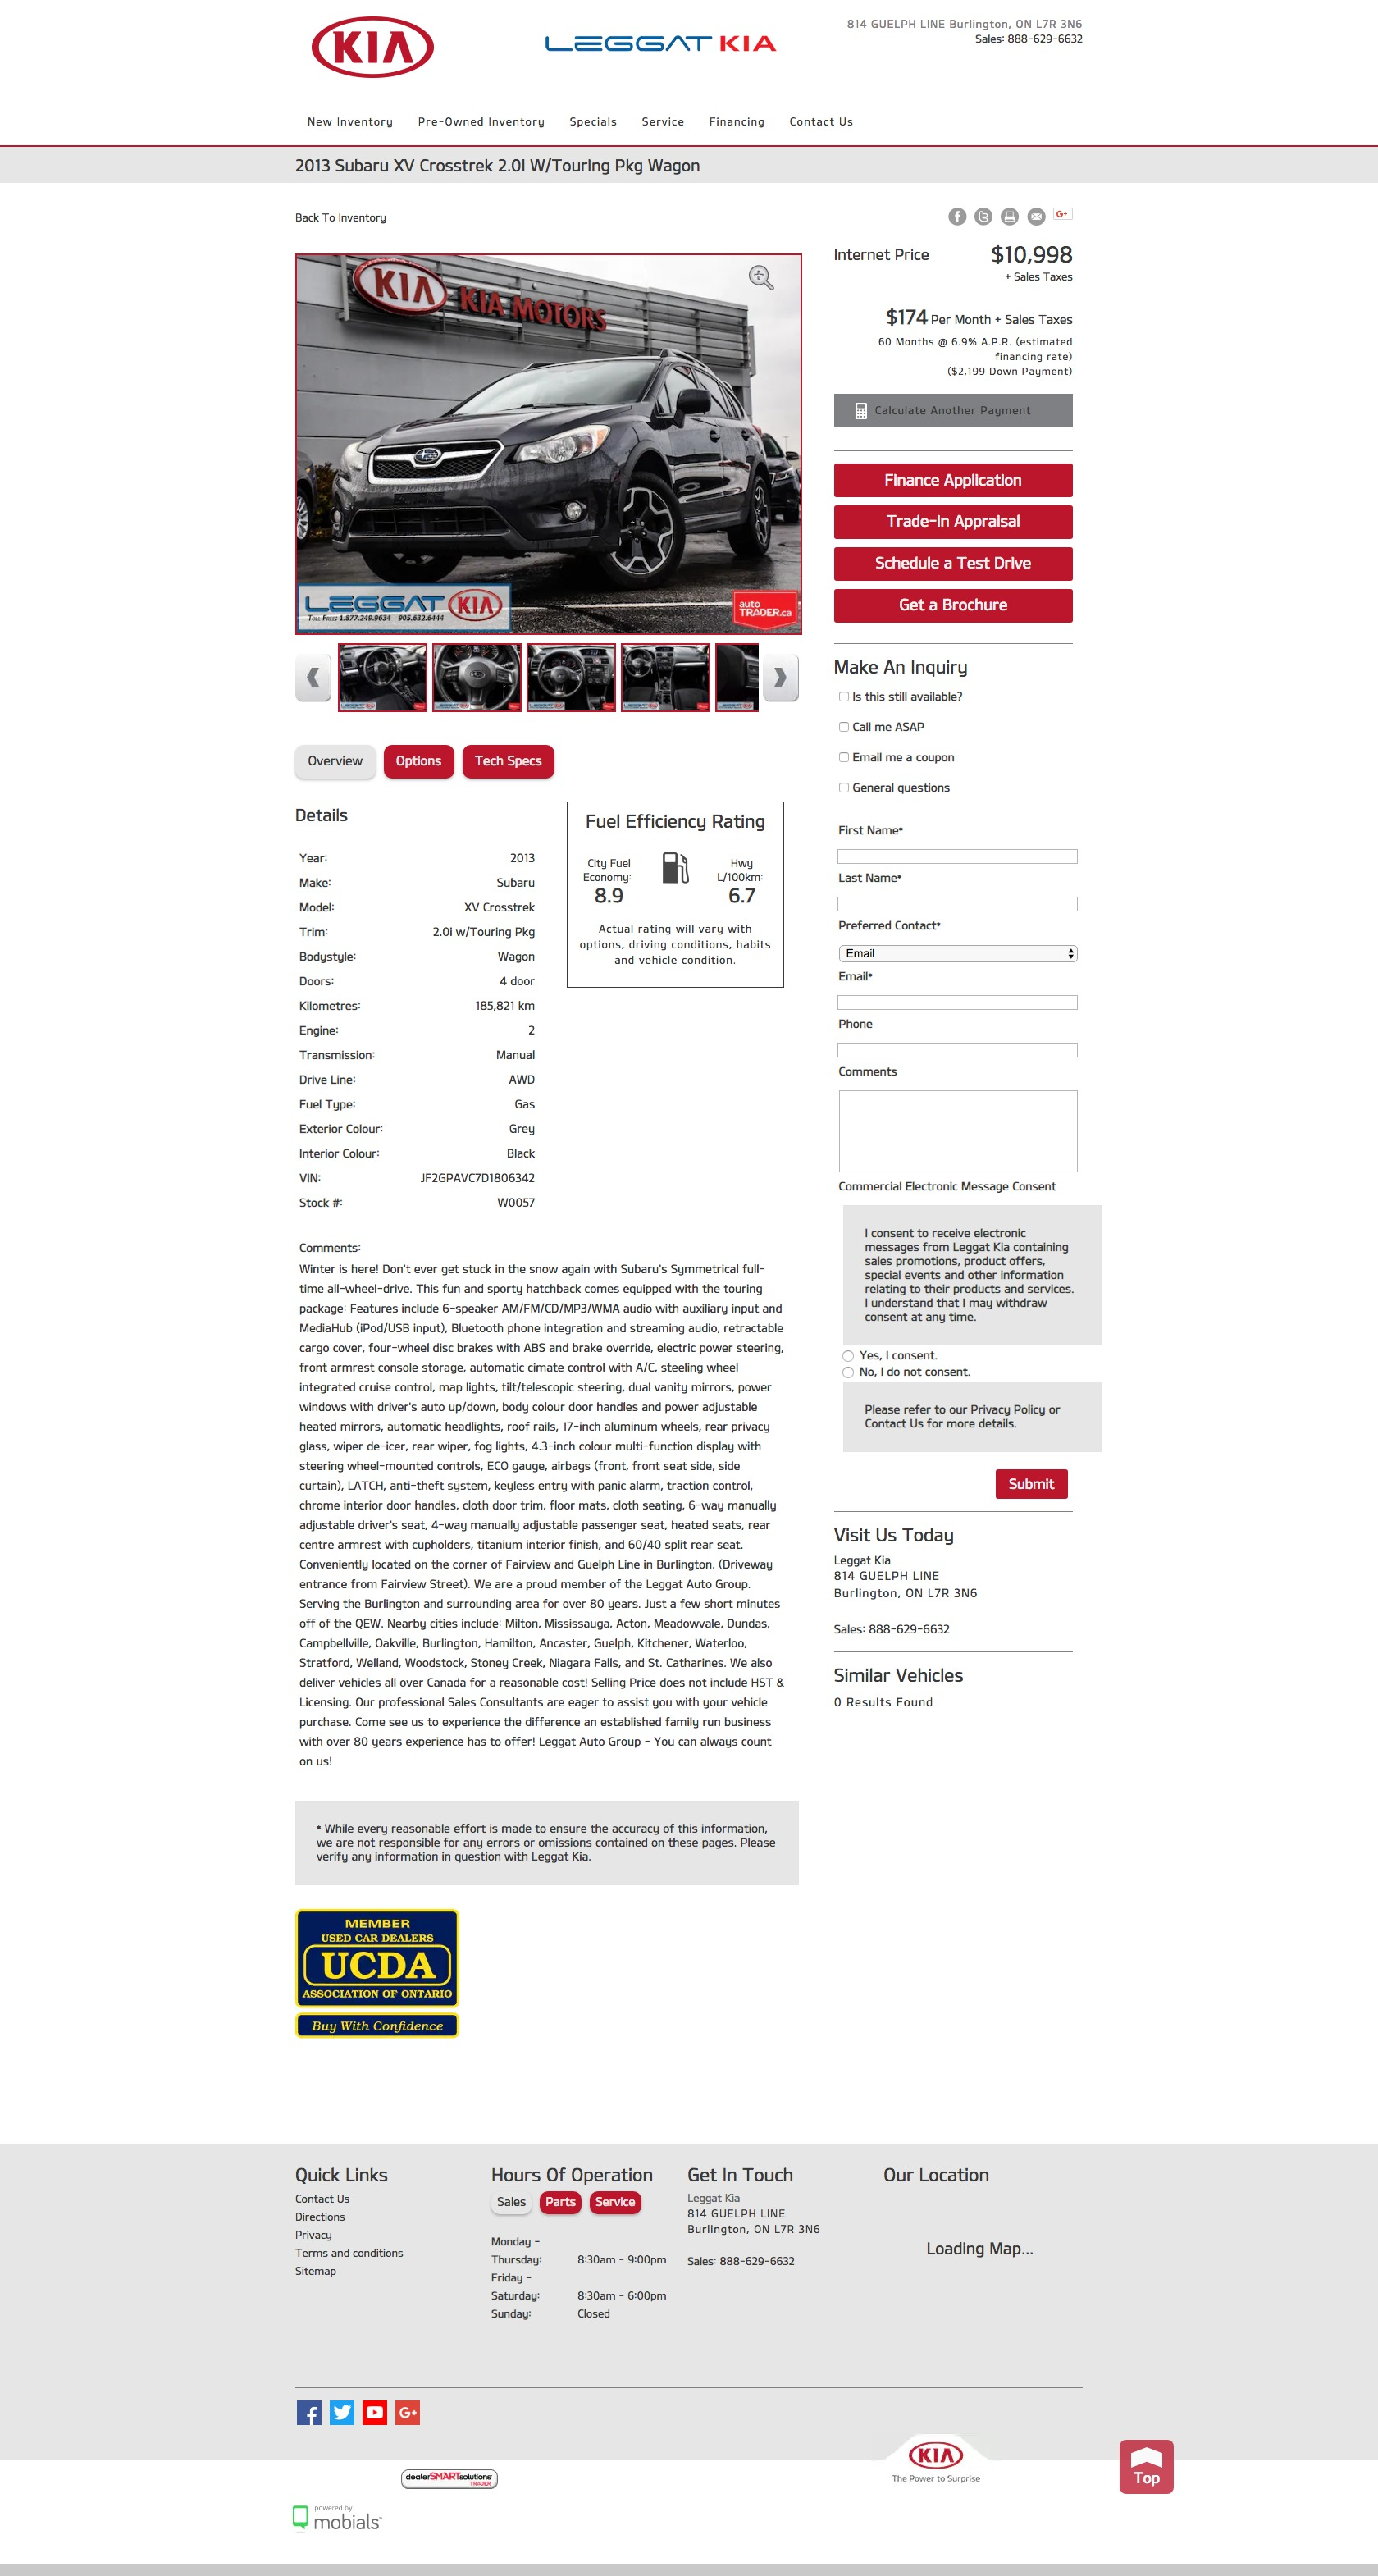car: (761, 654, 801, 704)
